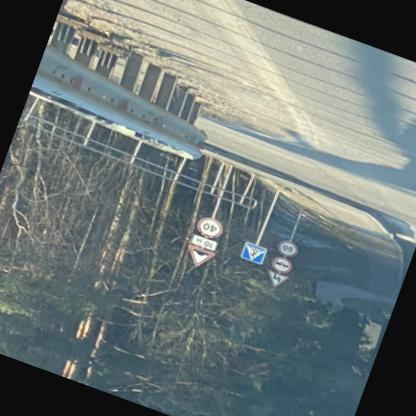crosswalk: (242, 243, 270, 268)
speedlimit: (196, 217, 225, 242), (277, 240, 299, 260)
